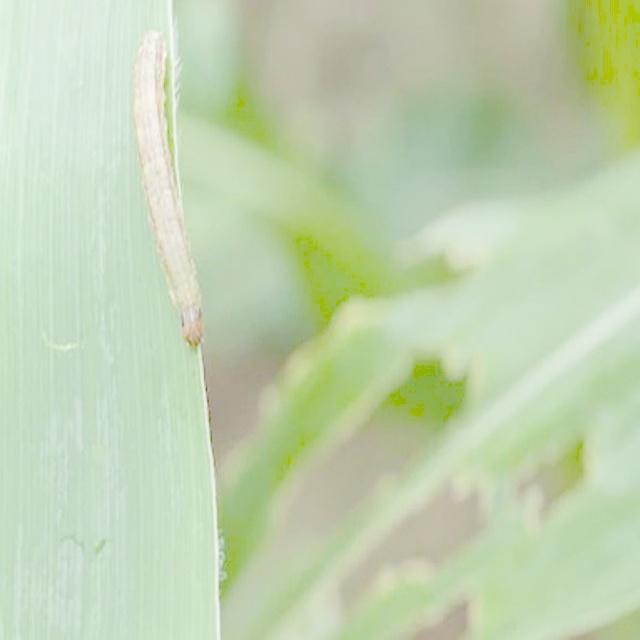Plaga: (138, 33, 208, 355)
